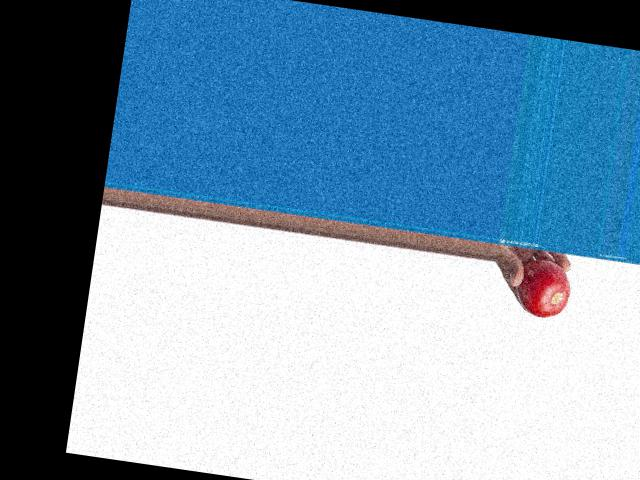tomato: (513, 256, 574, 320)
